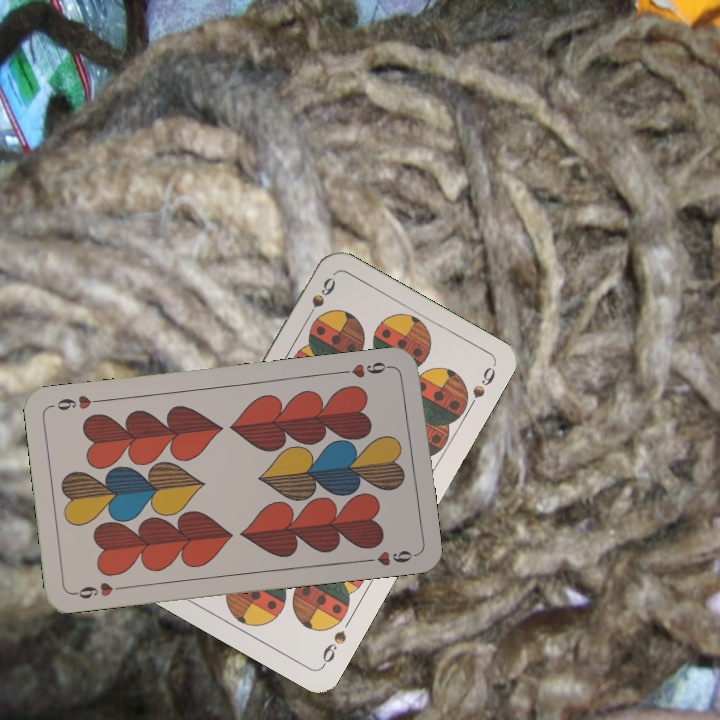H9: (69, 578, 128, 602), (336, 358, 395, 381)
S9: (300, 273, 339, 326), (318, 626, 349, 669)
